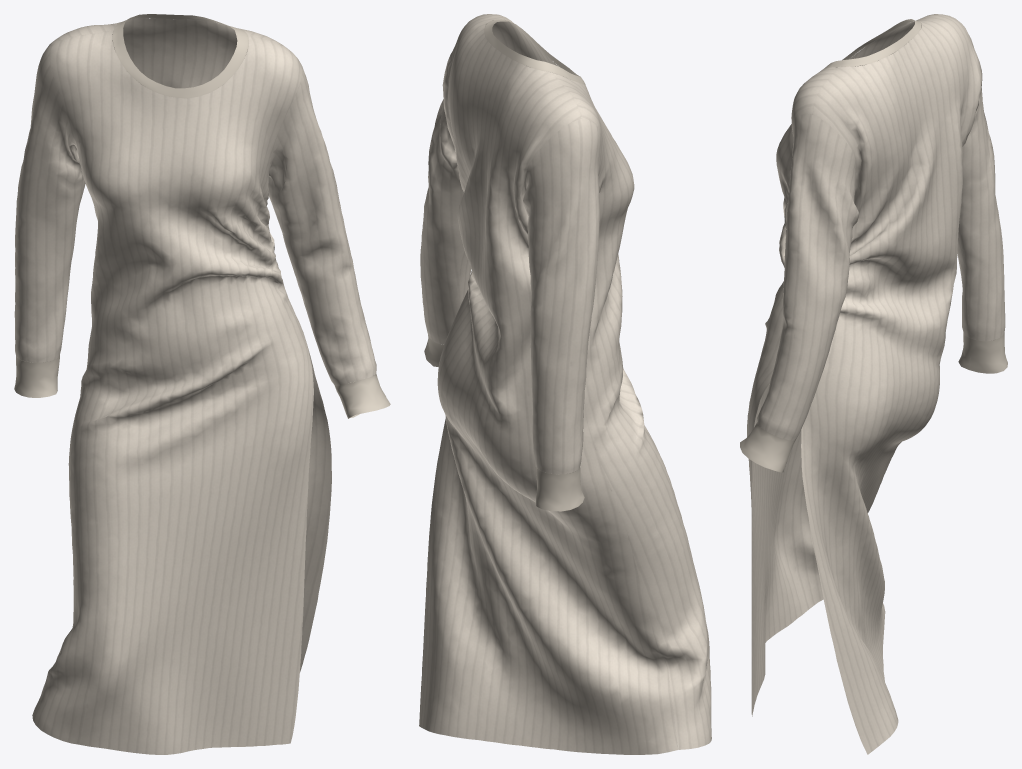
File: girls_long_sweater.glb
3 renders of one model, left to right at view 1: azimuth 30°, elevation 25°; view 2: azimuth 150°, elevation 25°; view 3: azimuth 270°, elevation 25°, orthographic. The views are drawn at different scales.
Parts seen in each view (by area): view 1: Girls Long Sweater; view 2: Girls Long Sweater; view 3: Girls Long Sweater.
Boxes of the visible parts, x1,y1,x2,y2 form: Girls Long Sweater: [14, 14, 390, 754]; Girls Long Sweater: [419, 14, 711, 754]; Girls Long Sweater: [740, 14, 1007, 754].
Bounding box in the file's own units: 0.5458 × 1.17 × 0.4229.
2 materials, 2 textured.
